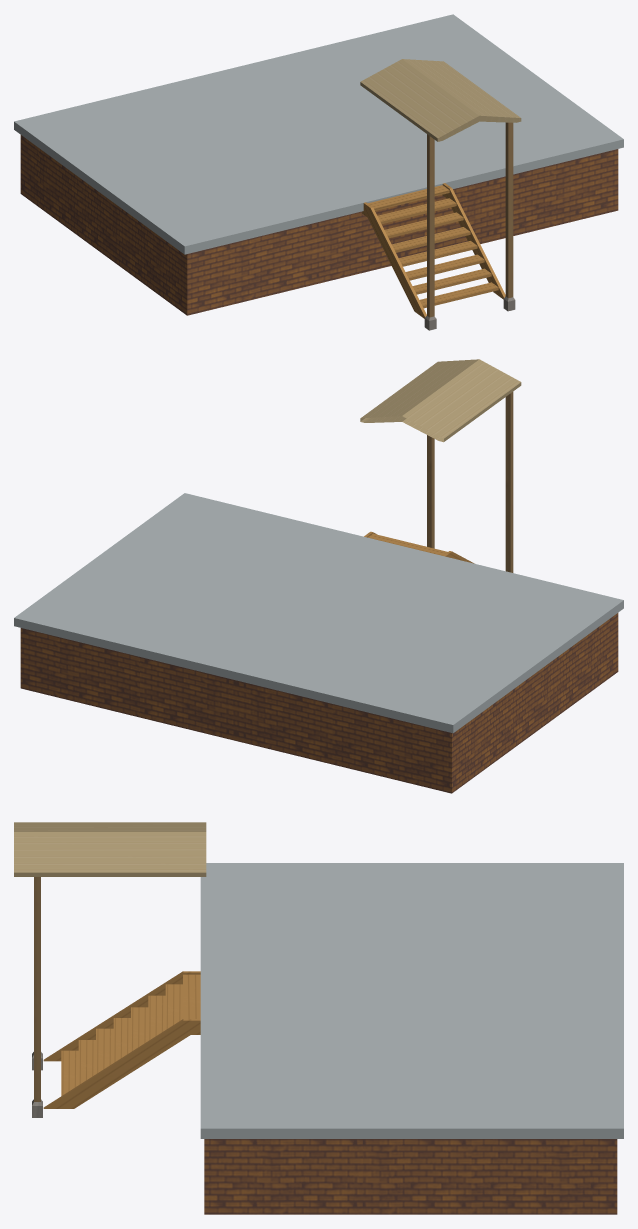
The model's file is ModularHBasementV1.fbx.
3 renders of one model, top to bottom at view 1: azimuth 30°, elevation 25°; view 2: azimuth 150°, elevation 25°; view 3: azimuth 270°, elevation 25°, orthographic. The views are drawn at different scales.
Parts seen in each view (by area): view 1: H_House_basement_V1_1, FrontDetail_V2; view 2: H_House_basement_V1_1, FrontDetail_V2; view 3: H_House_basement_V1_1, FrontDetail_V2.
Boxes of the visible parts, left/top/right/bottom form: H_House_basement_V1_1: left=14, top=14, right=623, bottom=318; FrontDetail_V2: left=360, top=59, right=521, bottom=330; H_House_basement_V1_1: left=14, top=493, right=623, bottom=793; FrontDetail_V2: left=360, top=359, right=521, bottom=572; H_House_basement_V1_1: left=43, top=863, right=623, bottom=1214; FrontDetail_V2: left=14, top=822, right=206, bottom=1117.
Bounding box in the file's own units: 54.65 × 24.93 × 53.01.
